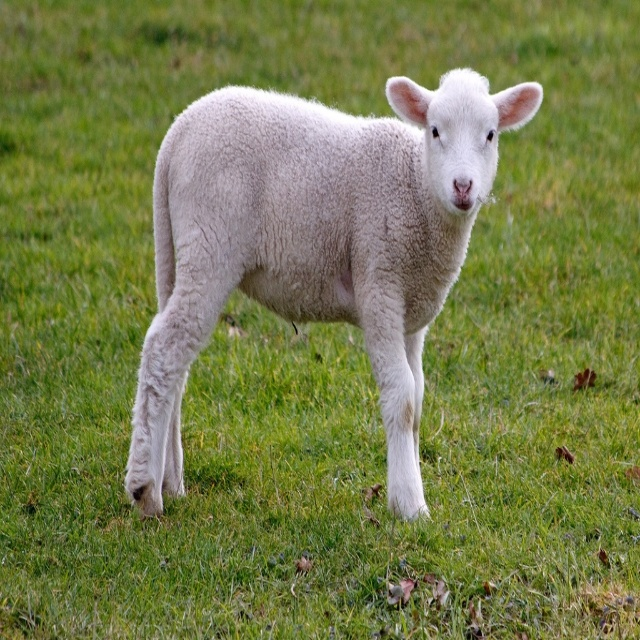Sheep: (109, 59, 563, 538)
